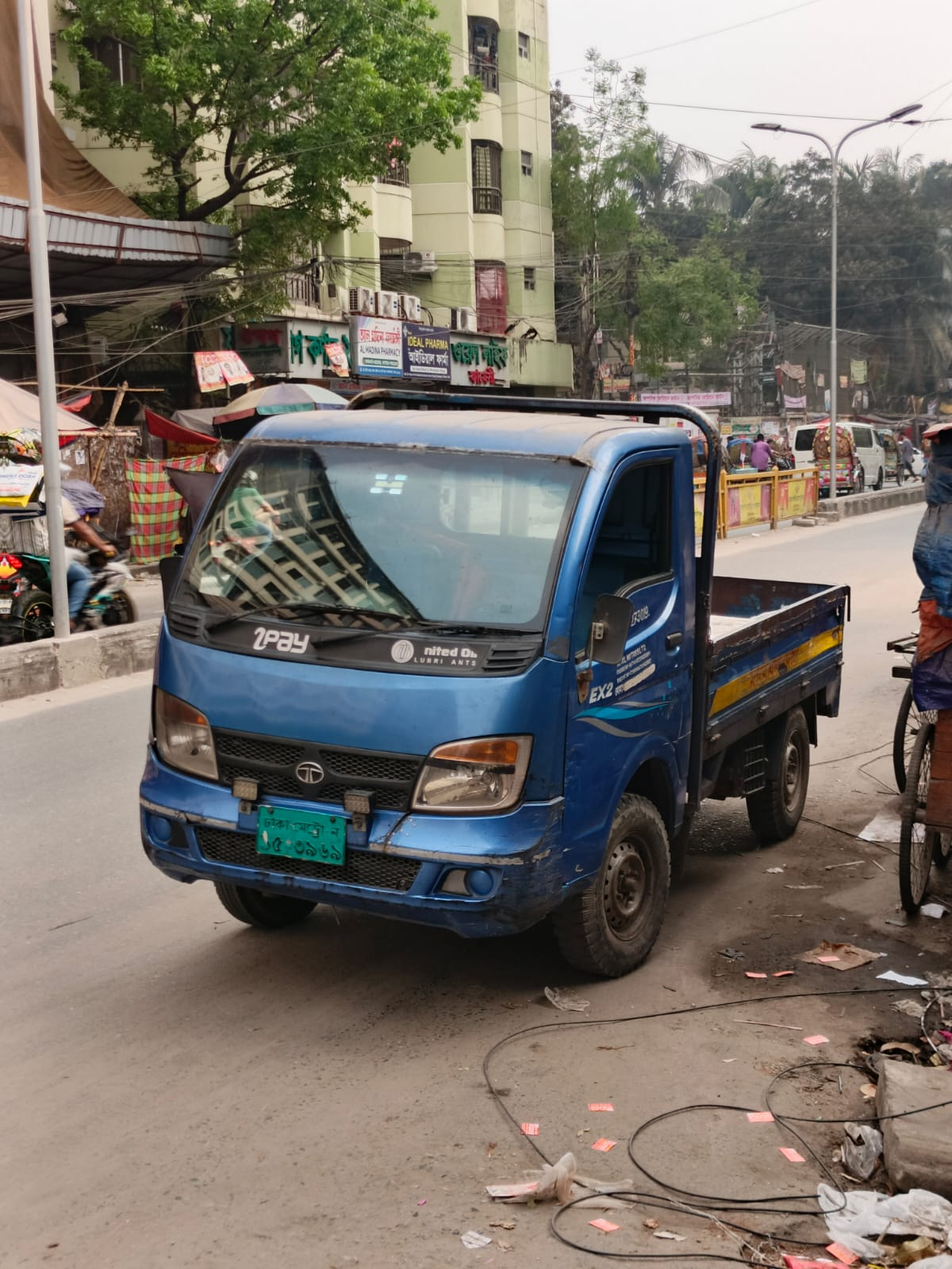Bikes: (8, 410, 188, 724)
Pickup: (116, 289, 889, 1111)
auto-ricksaw: (716, 417, 790, 488), (812, 412, 865, 509)
private car: (793, 406, 898, 503)
